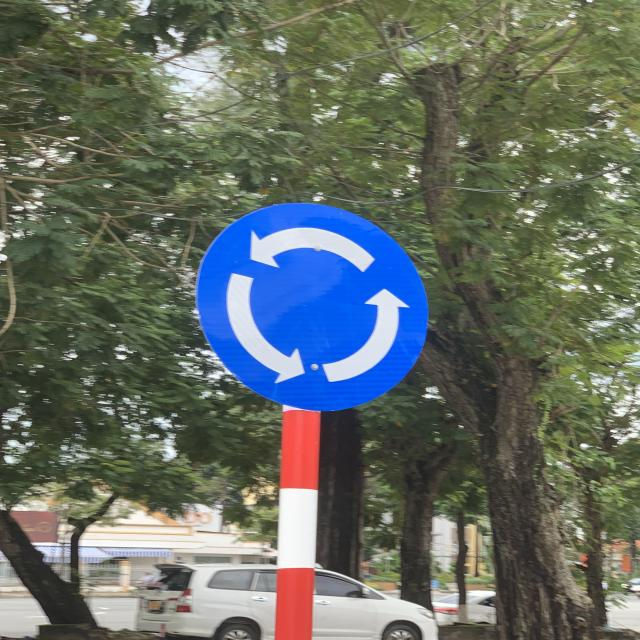Xe_Bus: (197, 203, 431, 411)
